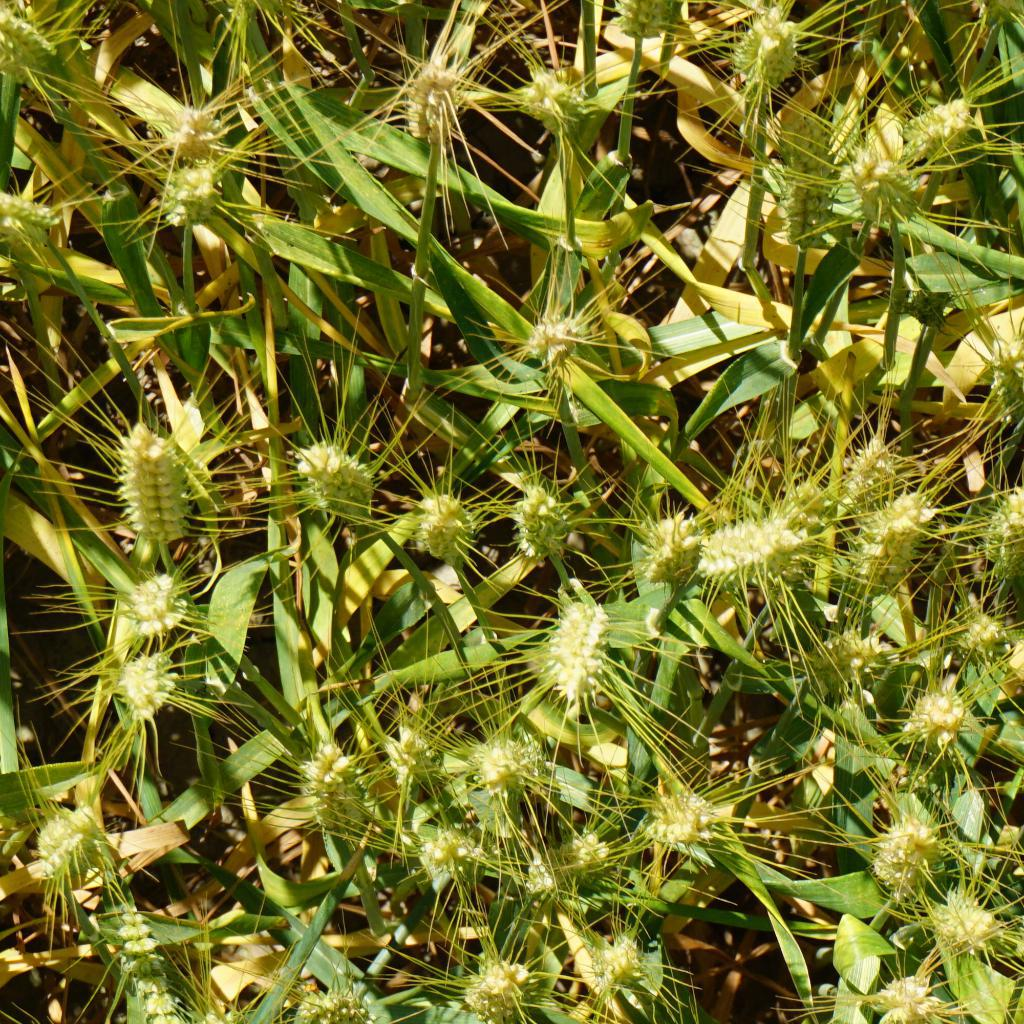0-0: (109, 409, 196, 553), (766, 109, 847, 262), (850, 799, 949, 903), (104, 900, 185, 1024), (842, 125, 928, 236), (845, 496, 925, 600), (633, 775, 732, 858), (287, 434, 384, 516), (545, 596, 612, 705), (898, 86, 988, 167), (800, 625, 900, 696), (395, 57, 474, 145), (842, 423, 907, 527), (408, 478, 479, 571), (702, 500, 795, 570), (761, 466, 837, 551), (637, 494, 705, 588), (896, 681, 980, 757), (297, 740, 364, 835), (518, 294, 591, 375), (521, 830, 600, 904), (529, 57, 602, 137), (0, 0, 69, 84), (728, 7, 797, 86), (0, 183, 68, 263), (502, 478, 569, 559), (33, 813, 96, 893), (458, 958, 533, 1024), (110, 647, 181, 716), (933, 888, 1004, 956), (867, 963, 944, 1024), (386, 712, 442, 791), (974, 484, 1024, 572), (161, 159, 222, 230), (417, 805, 470, 886), (130, 569, 190, 640), (947, 600, 1017, 659), (976, 336, 1024, 421), (896, 263, 956, 331), (297, 974, 376, 1024), (588, 935, 651, 992), (600, 0, 665, 55), (169, 94, 228, 153), (466, 728, 519, 783), (174, 995, 258, 1024)
